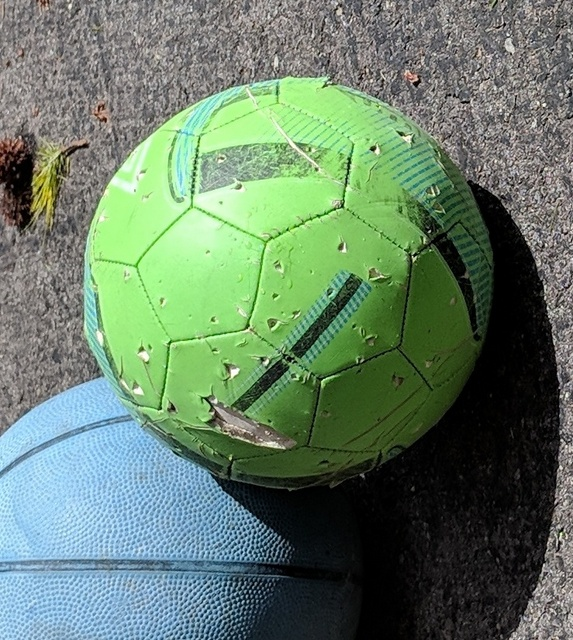ball: (80, 76, 494, 493)
